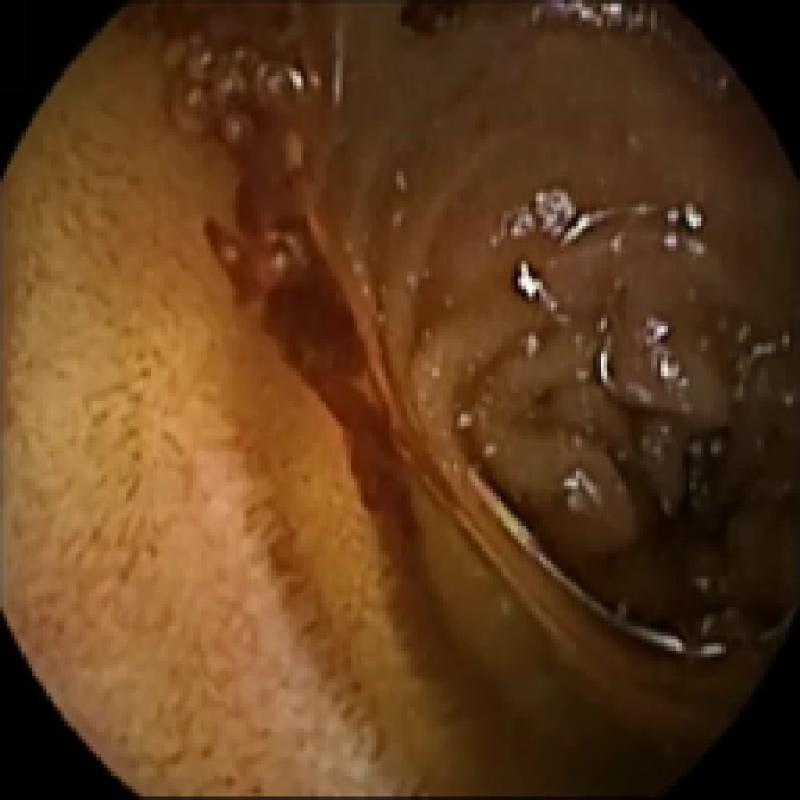bleeding: (175, 11, 439, 668)
